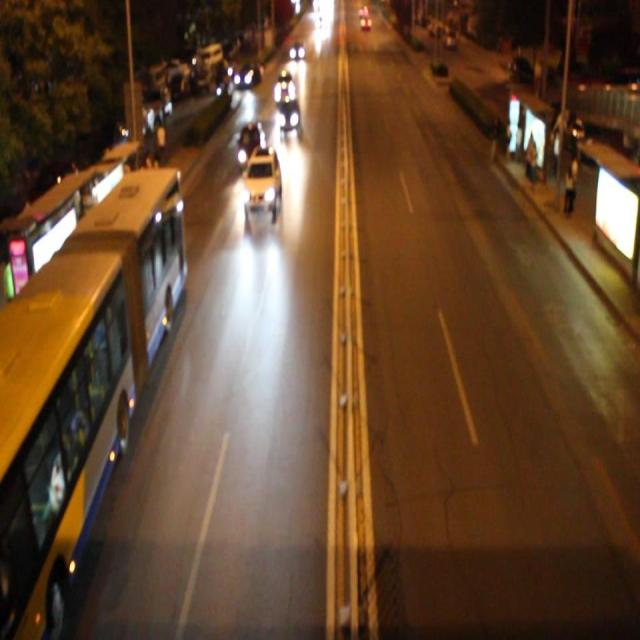car: (243, 146, 281, 213), (236, 121, 266, 168), (277, 95, 300, 131), (272, 68, 294, 101)
van: (0, 170, 179, 640)
